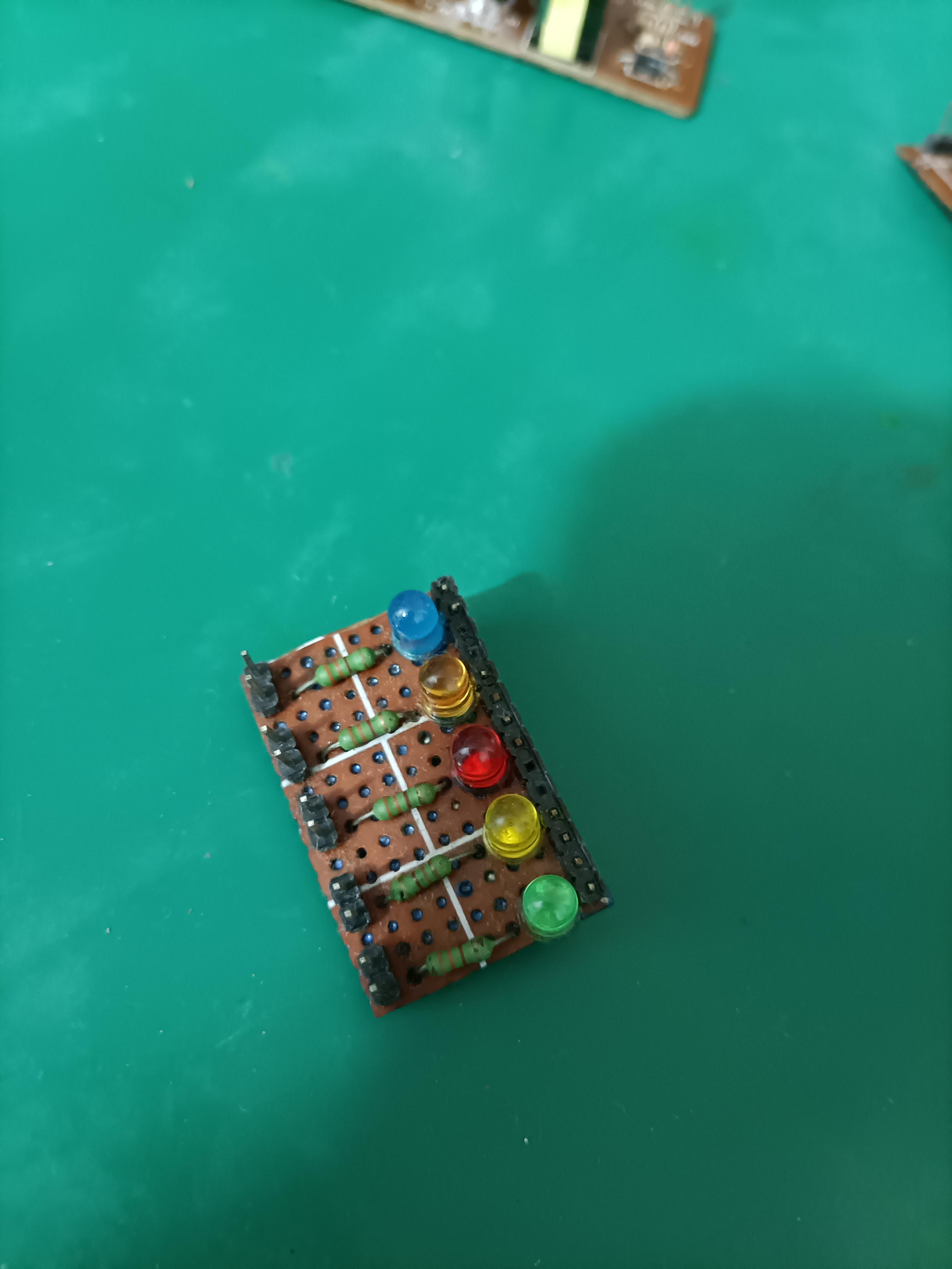LED: (476, 791, 545, 860), (449, 716, 512, 791), (382, 590, 452, 656), (414, 652, 480, 722), (521, 870, 583, 942)
Resistencia: (304, 672, 383, 698), (360, 808, 440, 833), (376, 887, 456, 912), (323, 738, 403, 763), (415, 965, 494, 990), (399, 637, 407, 641)
